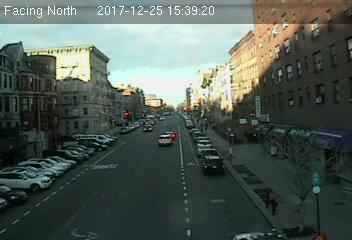car: (201, 154, 225, 175), (158, 135, 172, 145)
